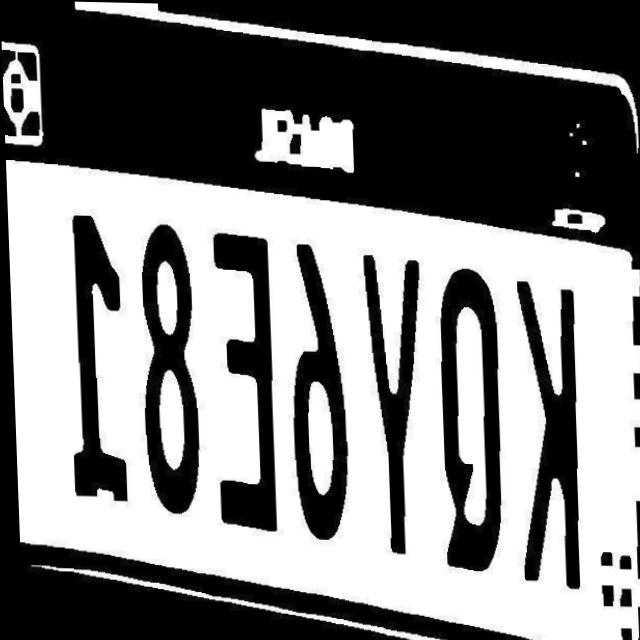1: (49, 208, 129, 505)
6: (283, 241, 355, 543)
8: (132, 217, 202, 520)
e: (203, 224, 281, 537)
k: (509, 274, 589, 591)
q: (431, 259, 509, 579)
y: (358, 248, 429, 558)
